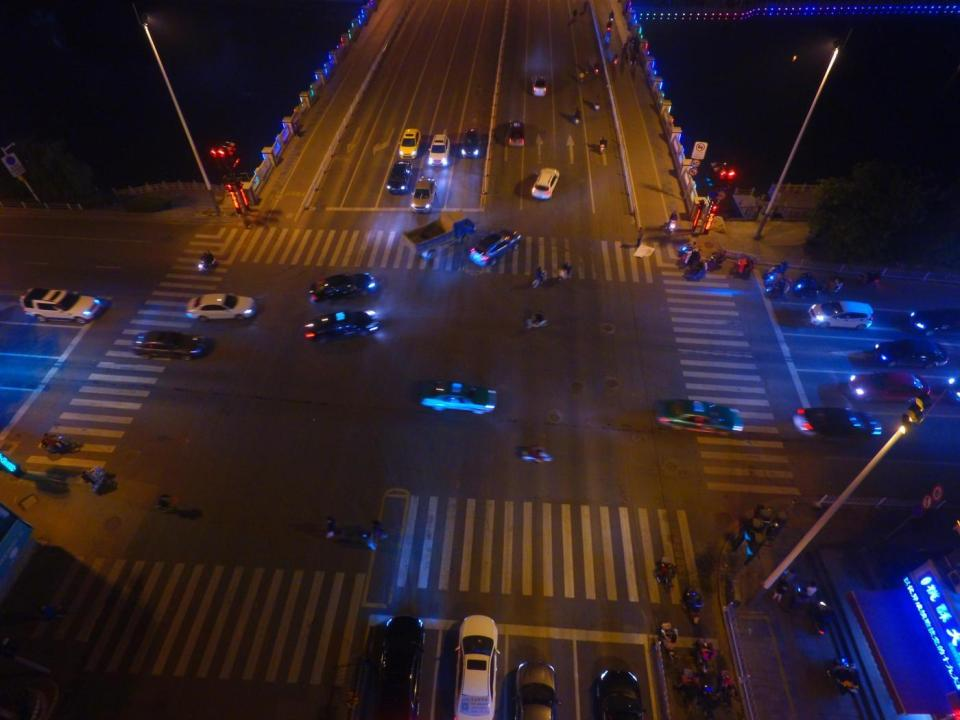car: (373, 614, 428, 716), (448, 616, 502, 719), (654, 395, 744, 435), (789, 405, 882, 440), (418, 376, 497, 416), (300, 308, 380, 347), (20, 288, 102, 326), (514, 657, 562, 720), (592, 668, 648, 720), (848, 371, 931, 406), (130, 329, 213, 362), (307, 270, 378, 306), (871, 338, 949, 369), (184, 292, 258, 322), (468, 226, 522, 265), (807, 300, 874, 330), (908, 308, 960, 336), (530, 167, 560, 201), (410, 176, 438, 212), (386, 159, 413, 193), (427, 132, 450, 167), (398, 126, 421, 158), (506, 117, 526, 149), (460, 127, 480, 156), (531, 73, 547, 96)
truck: (398, 211, 478, 261)
